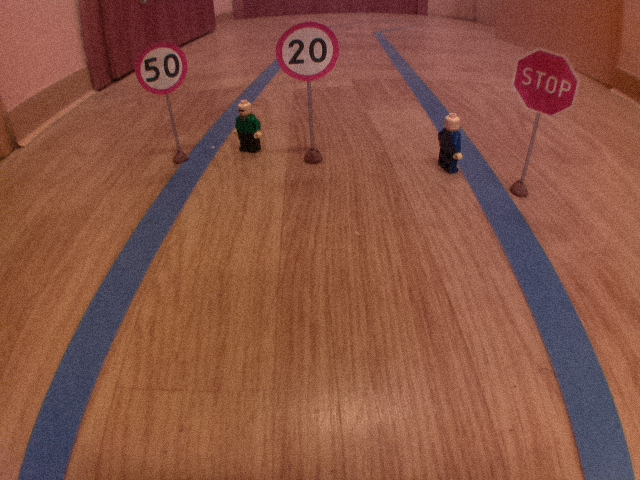LEGO_person: (433, 110, 469, 180), (229, 97, 268, 155)
ogr_20: (273, 18, 342, 85)
ogr_50: (133, 38, 190, 97)
stop: (509, 45, 584, 121)
